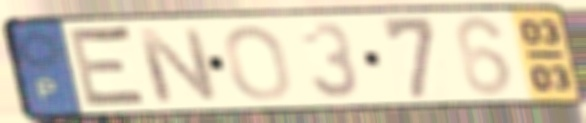3: (296, 19, 362, 102)
6: (450, 13, 520, 99)
7: (378, 15, 440, 102)
E: (65, 23, 153, 110)
N: (131, 25, 223, 105)
O: (221, 23, 295, 103)
